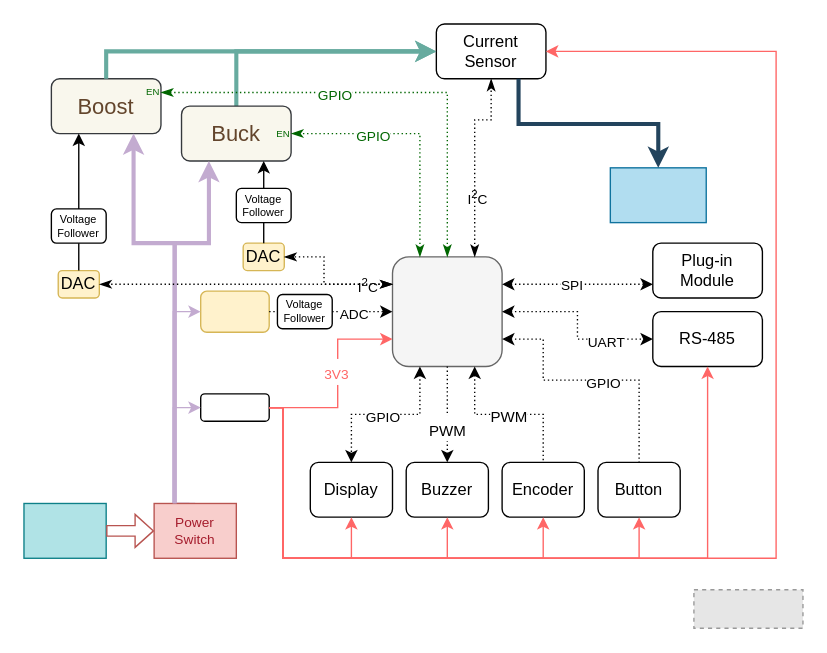
Image size: 827x653. Some labels were removed from this diagram. Grey dashed boxes stand in for pictures. Each missing label, with the centre of its shape:
DC Power Input: point 64,530
LDO: point 234,407
MCU: point 446,311
Output: point 657,194
Voltage Monitor: point 234,311
